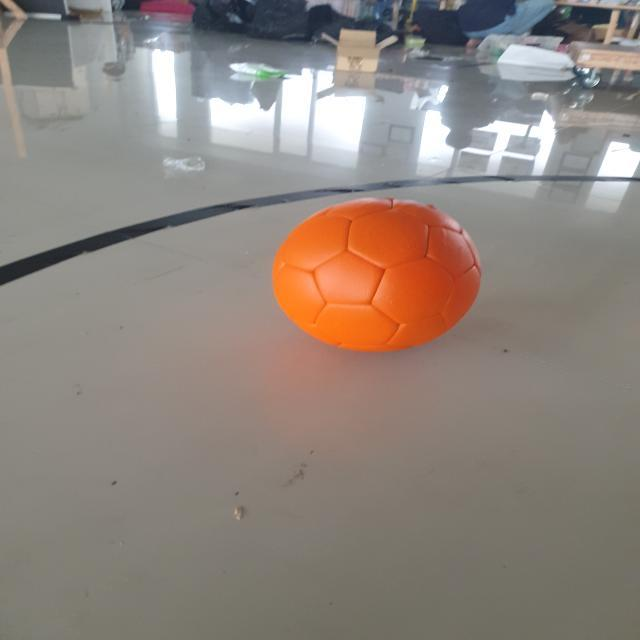bola: (270, 194, 490, 362)
